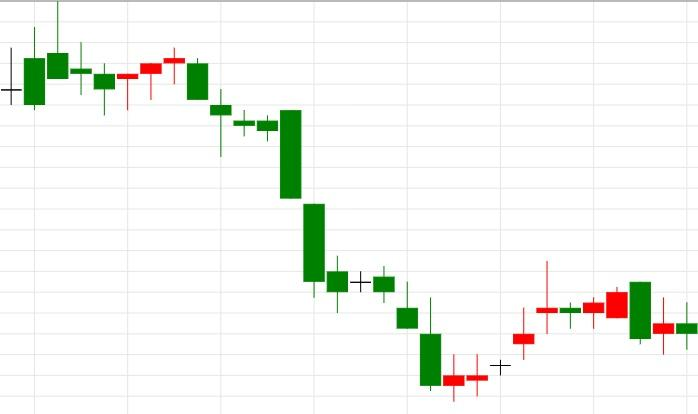bearish_engulfing_fall: (442, 261, 651, 401)
